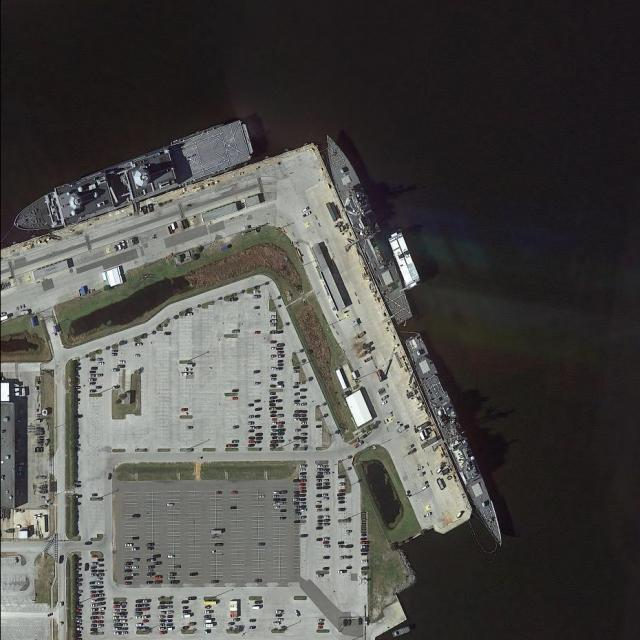Auxiliary Ships: (3, 117, 261, 241)
Cruiser: (405, 334, 509, 548)
Destroyer: (317, 131, 415, 325)
